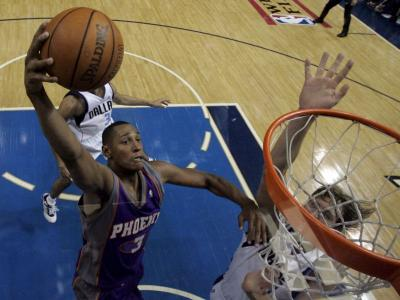basketball: (42, 5, 124, 93)
